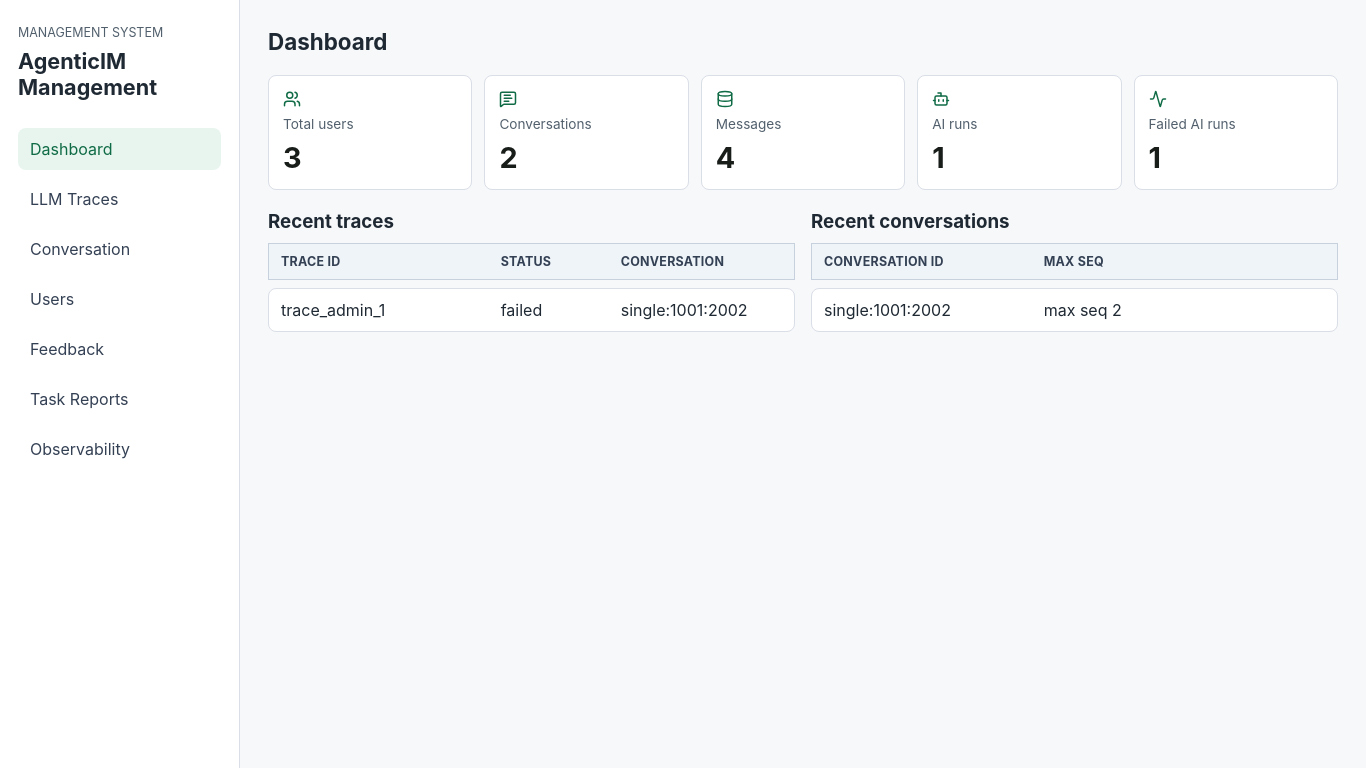
Test: AdminConsole › loads messages after entering a conversation id
Click the button "Conversation".
click(120, 249)  # box [18,228,221,270]
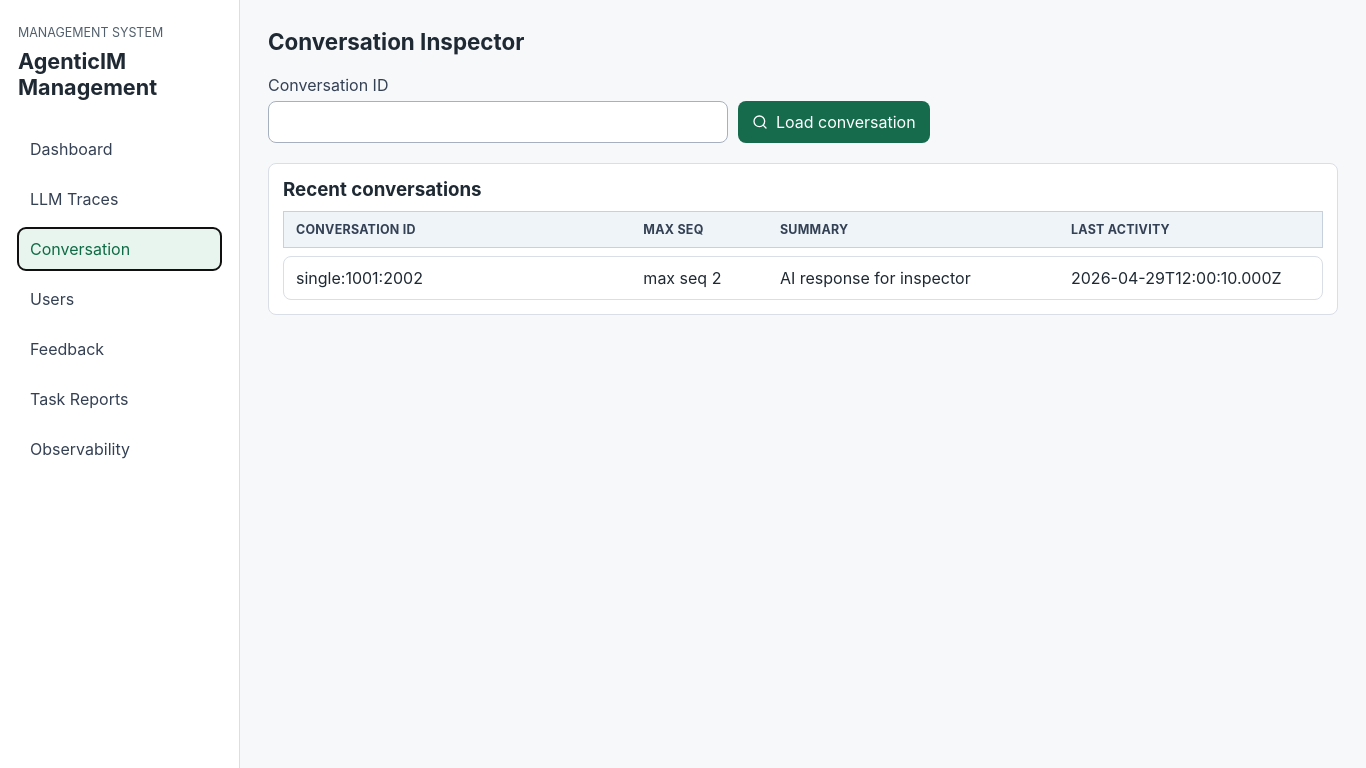
Type "single:1001:2002" into the field labelled "Conversation ID".
click(498, 122); type("single:1001:2002")  # box [268,101,728,143]
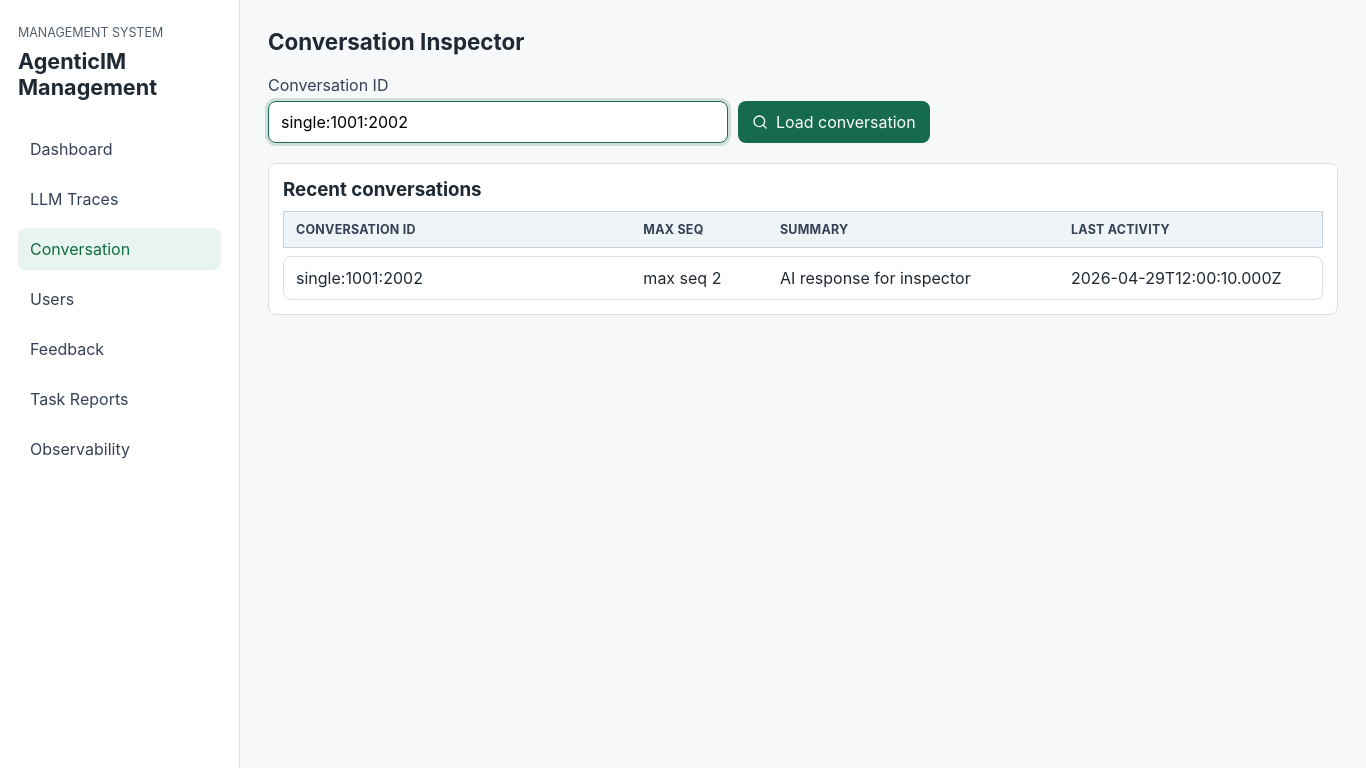
Click the button "Load conversation".
click(834, 122)  # box [738,101,930,143]
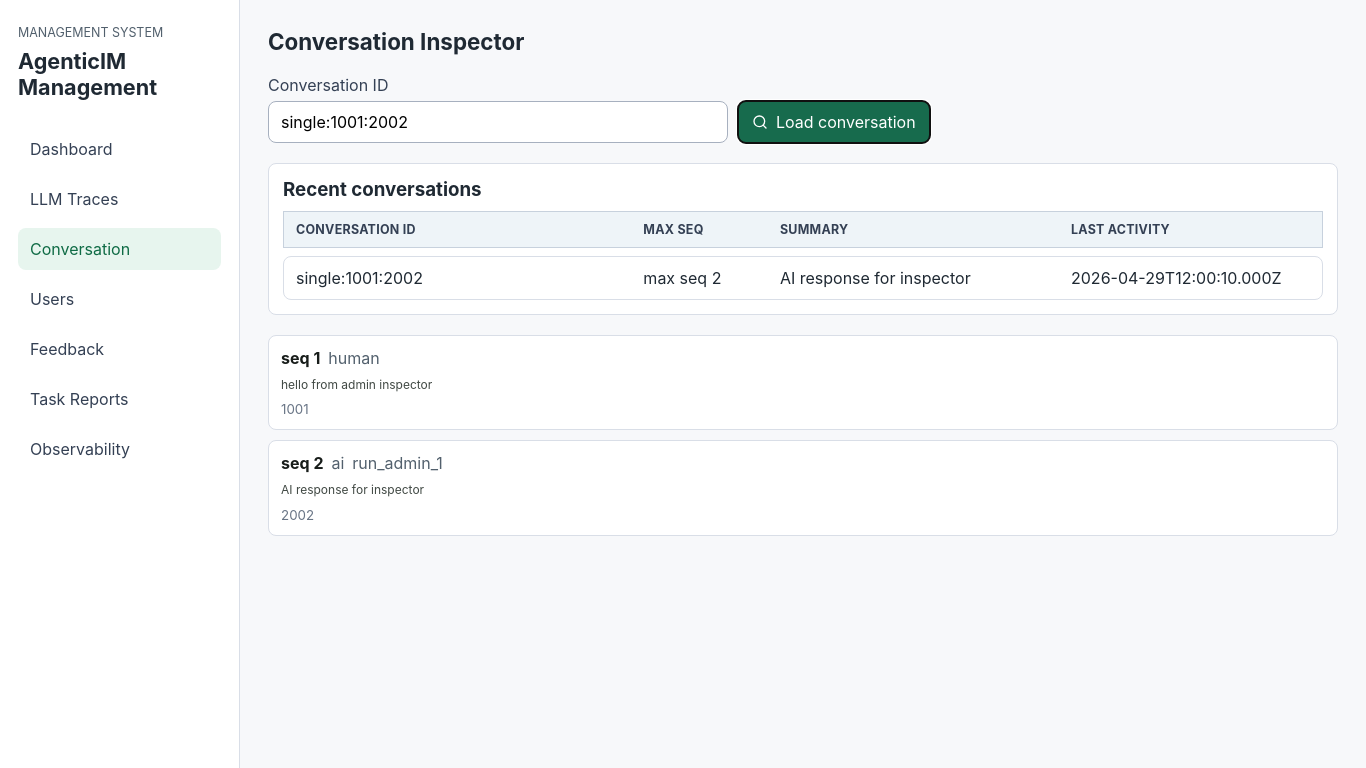
Expected: the text "hello from admin inspector" is shown, [281,377,432,392]
Expected: the text "AI response for inspector" below "run_admin_1" is shown, [281,482,424,497]
Expected: the text "seq 2" is shown, [281,453,324,473]
